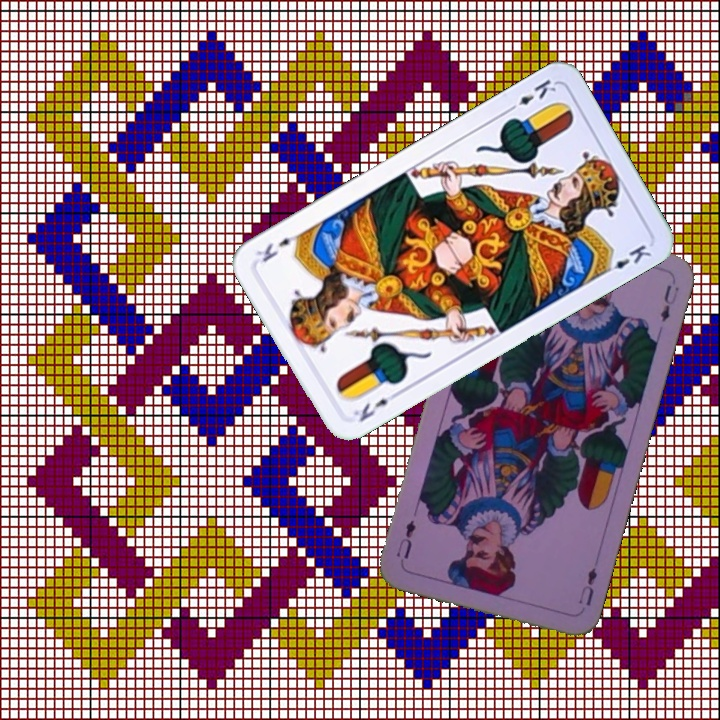EK: (503, 74, 559, 115), (349, 387, 402, 425)
EU: (578, 563, 600, 609)
